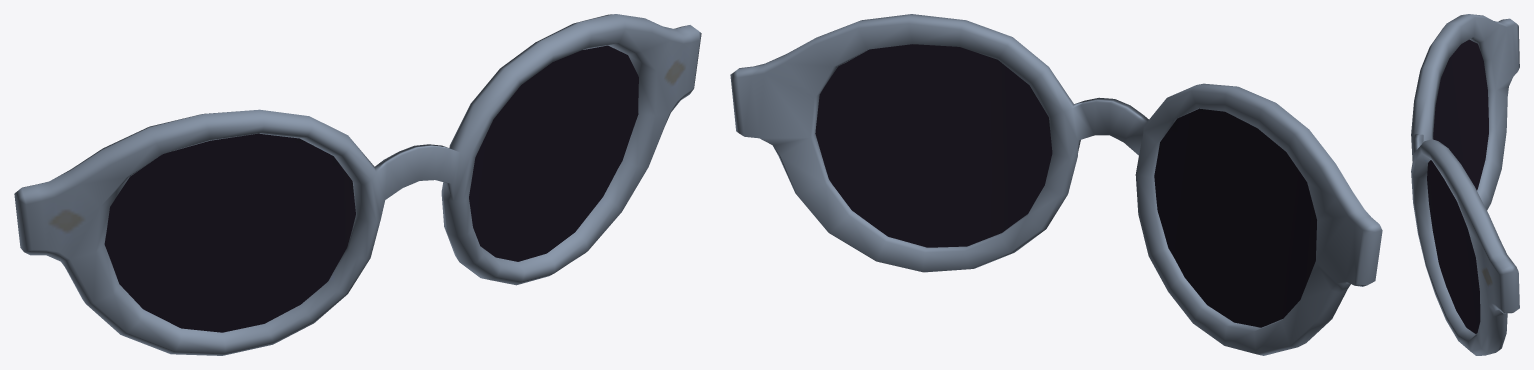
File: AccessoryGlassBoston6.glb
3 renders of one model, left to right at view 1: azimuth 30°, elevation 25°; view 2: azimuth 150°, elevation 25°; view 3: azimuth 270°, elevation 25°, orthographic. The views are drawn at different scales.
Parts seen in each view (by area): view 1: AccessoryAlpha__AccessoryGlassBostonBlackHigh_mAccessory; view 2: AccessoryAlpha__AccessoryGlassBostonBlackHigh_mAccessory; view 3: AccessoryAlpha__AccessoryGlassBostonBlackHigh_mAccessory.
Boxes of the visible parts, <box> form: AccessoryAlpha__AccessoryGlassBostonBlackHigh_mAccessory: <box>14,14,701,355</box>; AccessoryAlpha__AccessoryGlassBostonBlackHigh_mAccessory: <box>730,14,1382,355</box>; AccessoryAlpha__AccessoryGlassBostonBlackHigh_mAccessory: <box>1411,14,1519,355</box>.
Size of the model in its own units: 6.82 by 2.42 by 1.24.
Materials: 1 (1 with a texture image).
